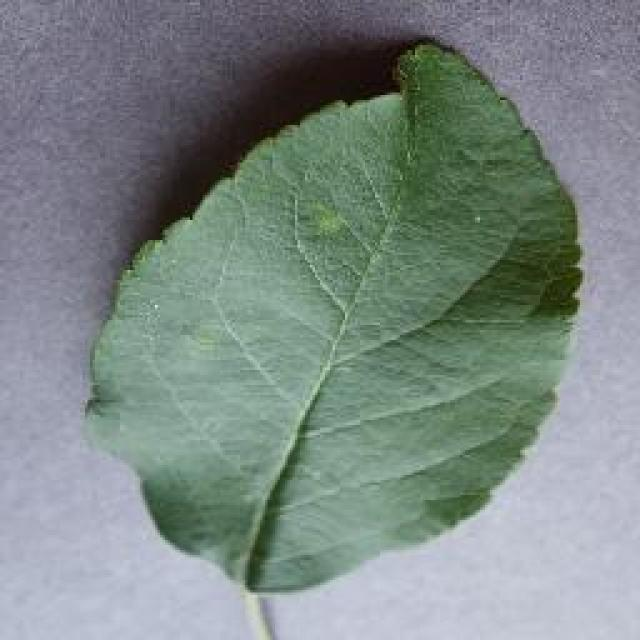apple healthy: (80, 35, 585, 600)
